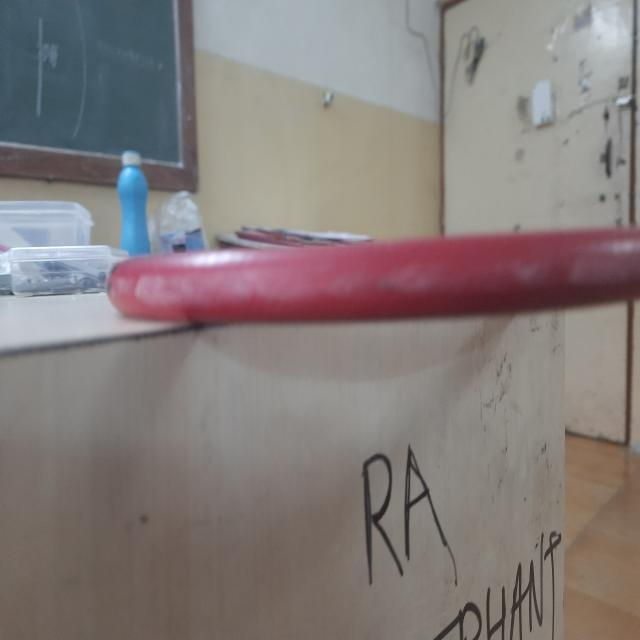daire: (119, 234, 640, 327)
